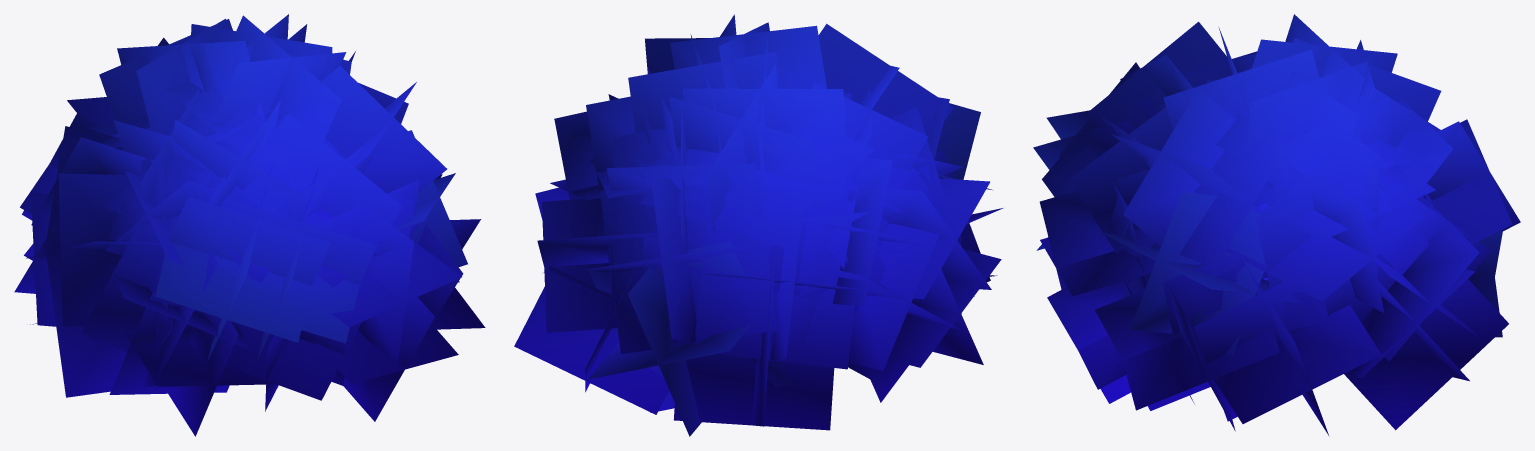
Rendered from TSI_Flower_Bush_02B.fbx.
3 renders of one model, left to right at view 1: azimuth 30°, elevation 25°; view 2: azimuth 150°, elevation 25°; view 3: azimuth 270°, elevation 25°, orthographic.
Parts seen in each view (by area): view 1: TSI_Flower_Bush_02B_LOD0; view 2: TSI_Flower_Bush_02B_LOD0; view 3: TSI_Flower_Bush_02B_LOD0.
Boxes of the visible parts, bbox=[...] form: TSI_Flower_Bush_02B_LOD0: bbox=[14, 14, 485, 436]; TSI_Flower_Bush_02B_LOD0: bbox=[514, 14, 1003, 436]; TSI_Flower_Bush_02B_LOD0: bbox=[1033, 14, 1520, 436].
Bounding box in the file's own units: 205 × 161 × 207.
